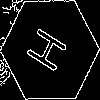H: (25, 25, 76, 80)
